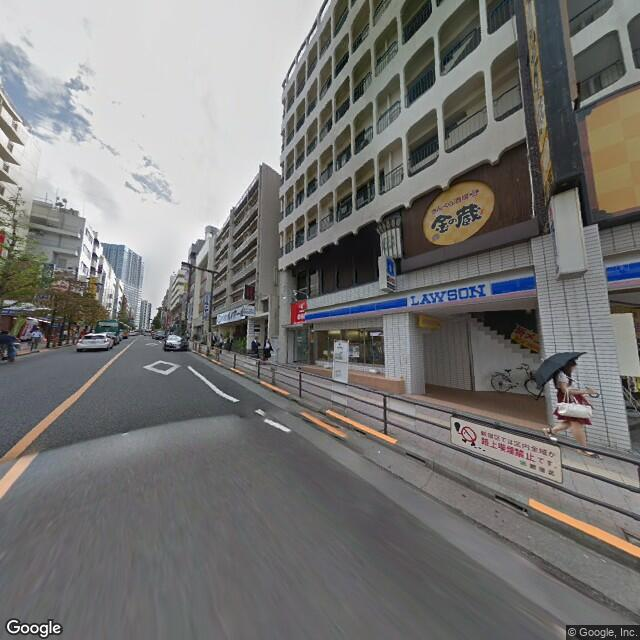lawson: (305, 266, 535, 329)
